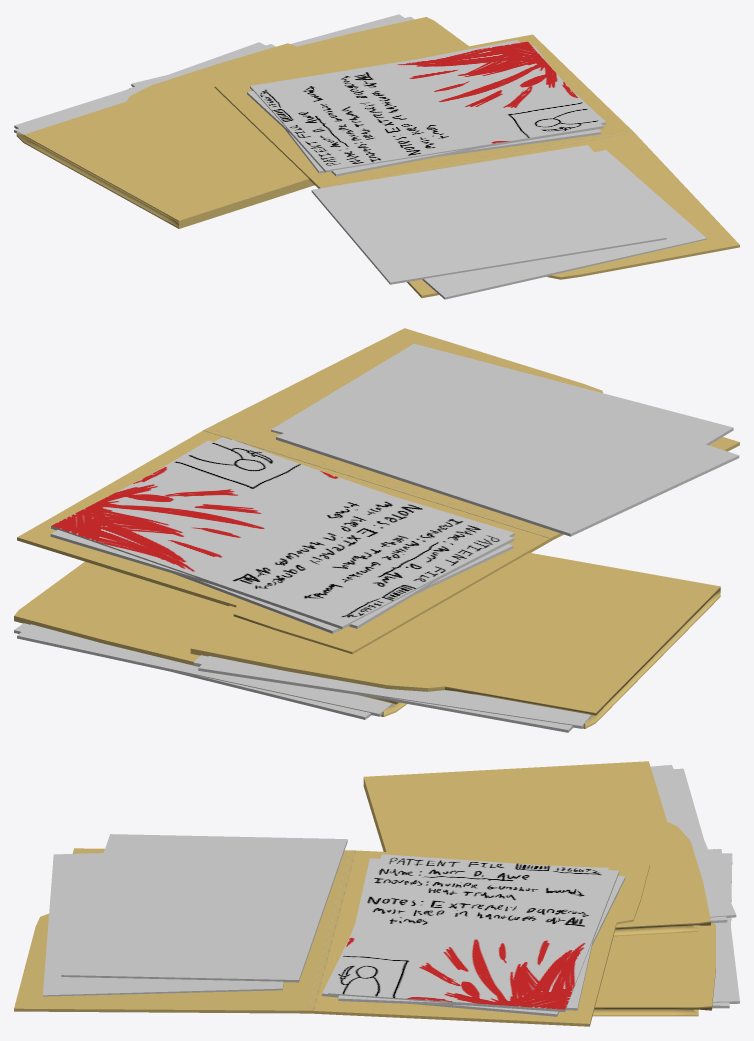
File: Files.fbx
3 renders of one model, top to bottom at view 1: azimuth 30°, elevation 25°; view 2: azimuth 150°, elevation 25°; view 3: azimuth 270°, elevation 25°, orthographic. The views are drawn at different scales.
Visible parts, largest first — view 1: Files; view 2: Files; view 3: Files.
Part boxes in pixels (left/top/right/bottom): Files: left=14, top=14, right=739, bottom=299; Files: left=14, top=328, right=739, bottom=732; Files: left=14, top=761, right=739, bottom=1026.
Size of the model in its own units: 0.4394 by 0.0196 by 0.5096.
1 material, 1 textured.
